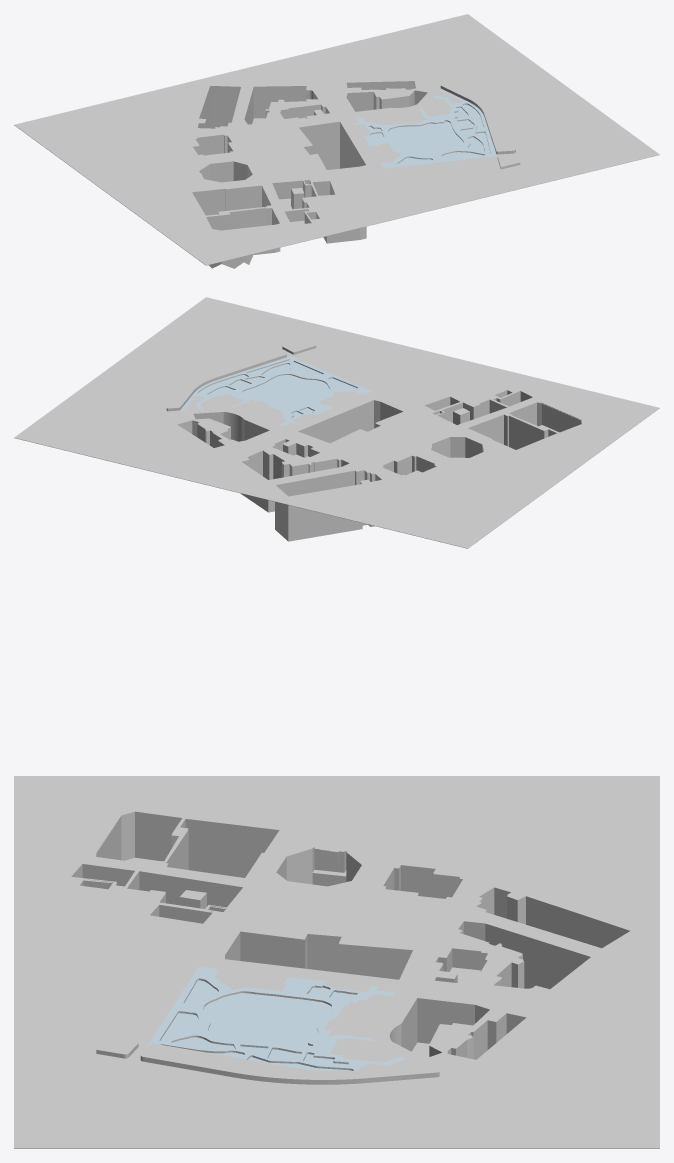
Rendered from fukuoka.dae.
3 views of the same model, one above another, from view 1: azimuth 30°, elevation 25°; view 2: azimuth 150°, elevation 25°; view 3: azimuth 270°, elevation 25° (orthographic). The views are drawn at different scales.
Visible parts, largest first — view 1: SketchUp (×24); view 2: SketchUp (×24); view 3: SketchUp (×25).
Part boxes in pixels (x1=…): SketchUp (×24): x1=14, y1=14, x2=659, y2=265; SketchUp (×24): x1=14, y1=297, x2=659, y2=548; SketchUp (×25): x1=14, y1=776, x2=659, y2=1148.
Size of the model in its own units: 5.91e+07 by 3.87e+07 by 2e+07.
6 materials, 4 textured.
